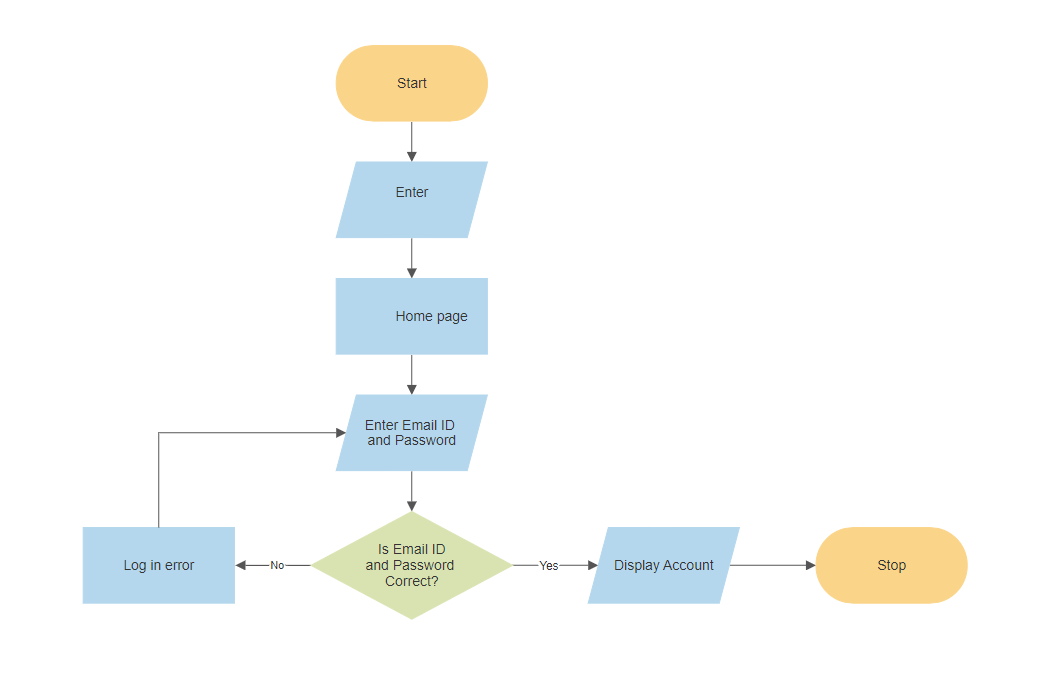arrow: (154, 425, 349, 530), (727, 557, 818, 572), (512, 558, 598, 573), (234, 556, 313, 570), (406, 352, 420, 397), (406, 120, 419, 167), (406, 468, 418, 511), (407, 236, 418, 277)
data: (333, 390, 492, 477), (587, 522, 743, 605), (334, 158, 489, 240)
decision: (309, 505, 515, 623)
process: (331, 275, 492, 357), (79, 525, 239, 607)
terminator: (333, 40, 492, 123), (812, 523, 970, 606)
text: (360, 541, 460, 590), (362, 417, 459, 446), (611, 557, 718, 575), (118, 555, 195, 574), (395, 308, 469, 326), (393, 73, 430, 92), (875, 557, 908, 577), (393, 184, 430, 200), (538, 555, 561, 575), (268, 557, 288, 574)
